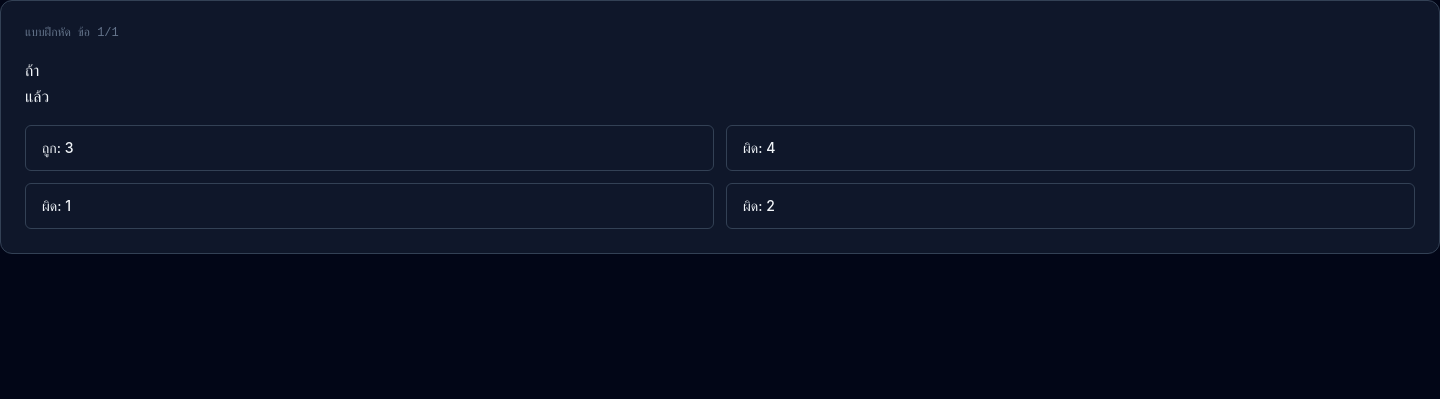
Test: shows hint link when incorrect and lessonId + courseId are present
What coordinates should you click on to do the following:
click the button "ผิด: 4"
I would click on:
 (759, 148)
Its box is [726,125,1415,171].
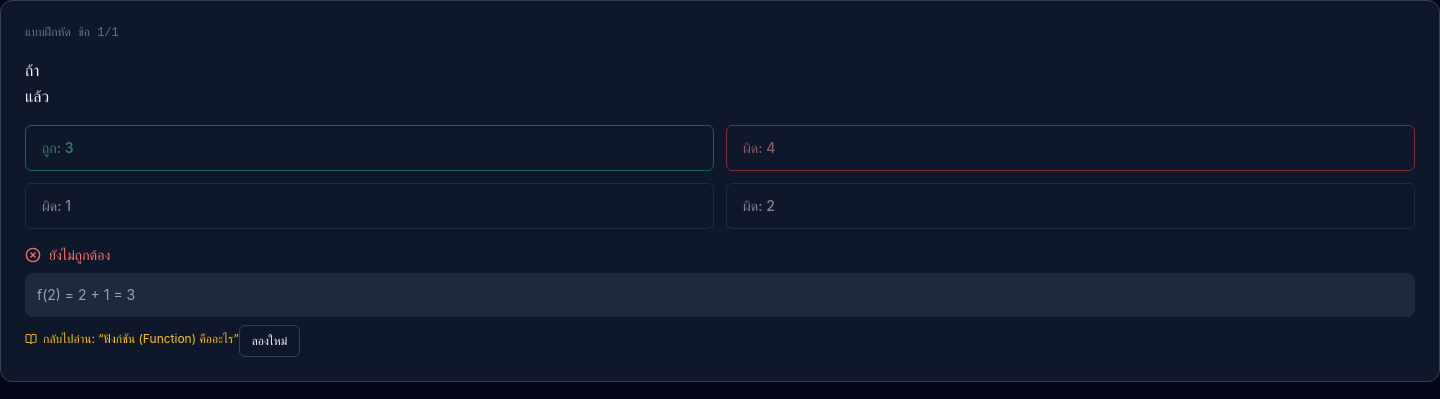
Expected: the link "กลับไปอ่าน: “ฟังก์ชัน (Function) คืออะไร”" is shown, [25,331,239,347]
